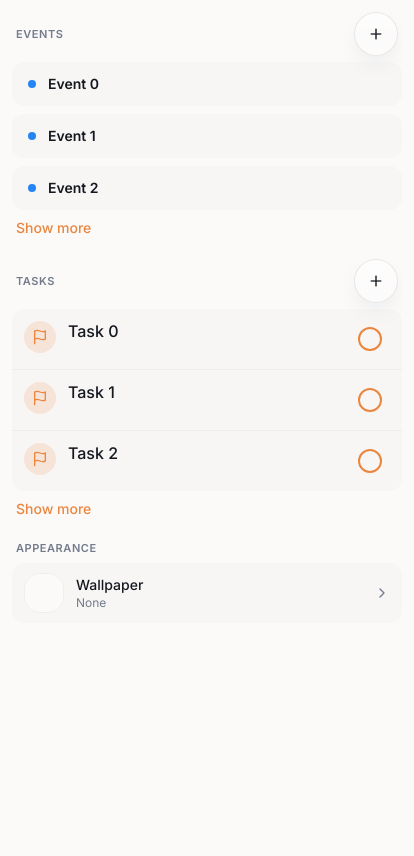
Test: Phase 14-A Calendar › 26. more-results reveals tasks and events beyond three
The width and height of the screenshot is (414, 856).
Expected: the text "Task 3" is not shown
Expected: the text "Event 3" is not shown
Click the button with test id "calendar-show-more-tasks". click: (54, 509)
box: x1=12 y1=499 x2=95 y2=519
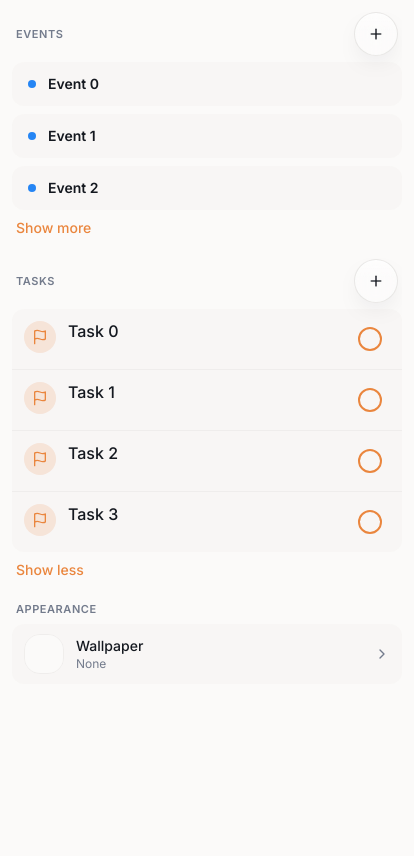
Click the button with test id "calendar-show-more-events". click: (54, 228)
box: x1=12 y1=218 x2=95 y2=238
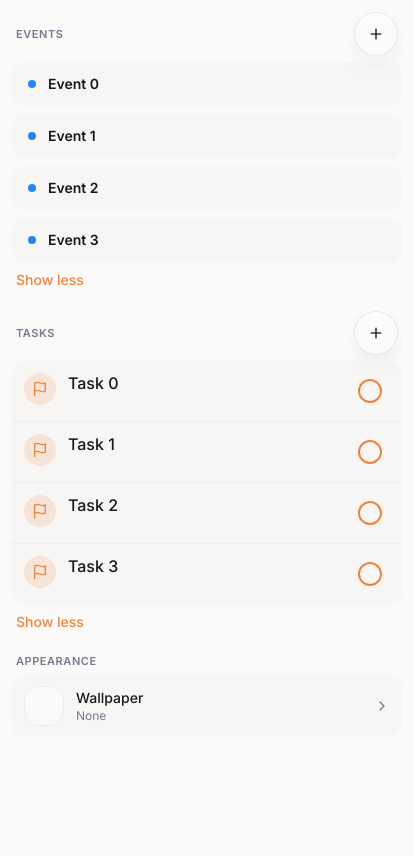
Expected: the text "Task 3" is shown, x1=68 y1=556 x2=118 y2=576
Expected: the text "Event 3" is shown, x1=48 y1=231 x2=99 y2=248
